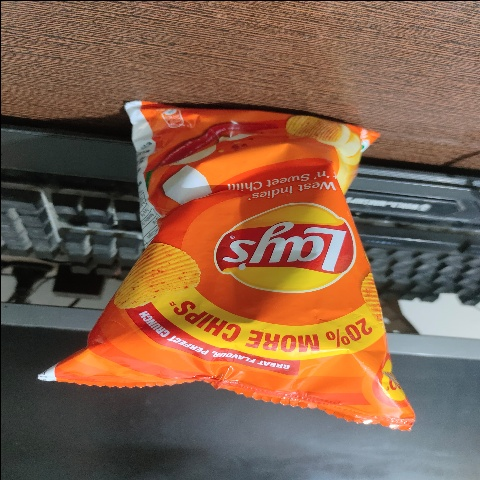lays_orange_pack: (28, 82, 425, 422)
